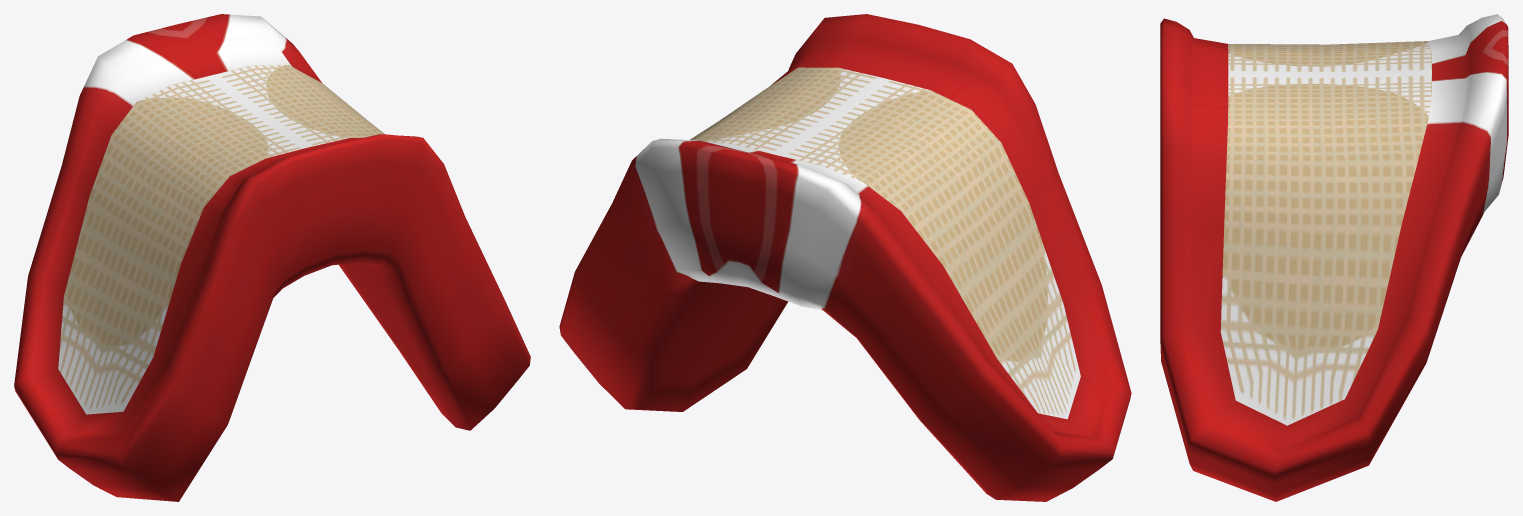
The model's file is Saddle.fbx.
The picture shows the model from 3 angles, left to right: view 1: azimuth 30°, elevation 25°; view 2: azimuth 150°, elevation 25°; view 3: azimuth 270°, elevation 25°; orthographic projection. The views are drawn at different scales.
Visible parts, largest first — view 1: Rock; view 2: Rock; view 3: Rock.
Part boxes in pixels (box(x1,y1,x2,y2)): Rock: box(14, 14, 530, 501); Rock: box(559, 14, 1131, 501); Rock: box(1160, 14, 1508, 501).
Size of the model in its own units: 0.6804 by 0.4984 by 0.4249.
